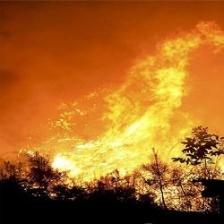fire: (16, 28, 224, 211)
